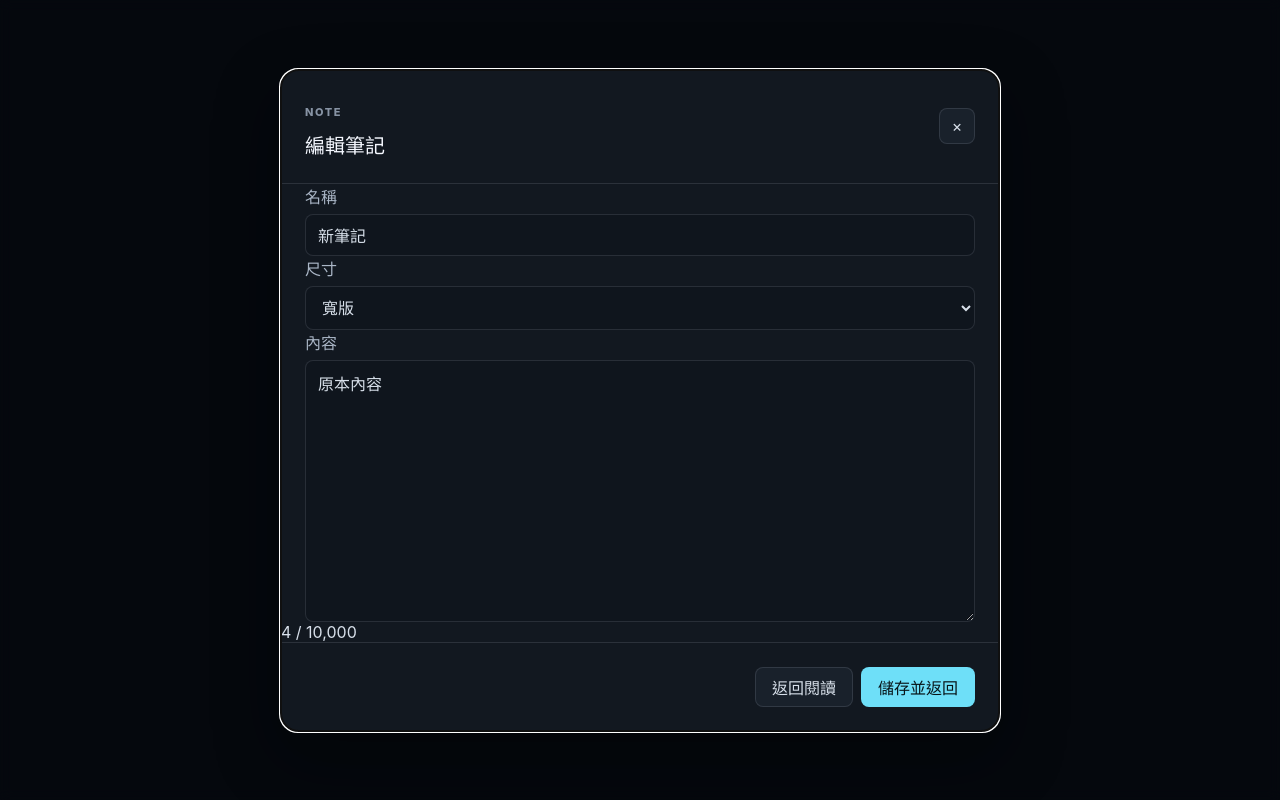
Scenario: NoteEditDialog › 純文字內容會在 500ms 後自動保存
Replace the text in the text box labelled "內容" with "新的內容". click: (640, 490)
box: [305,360,975,622]
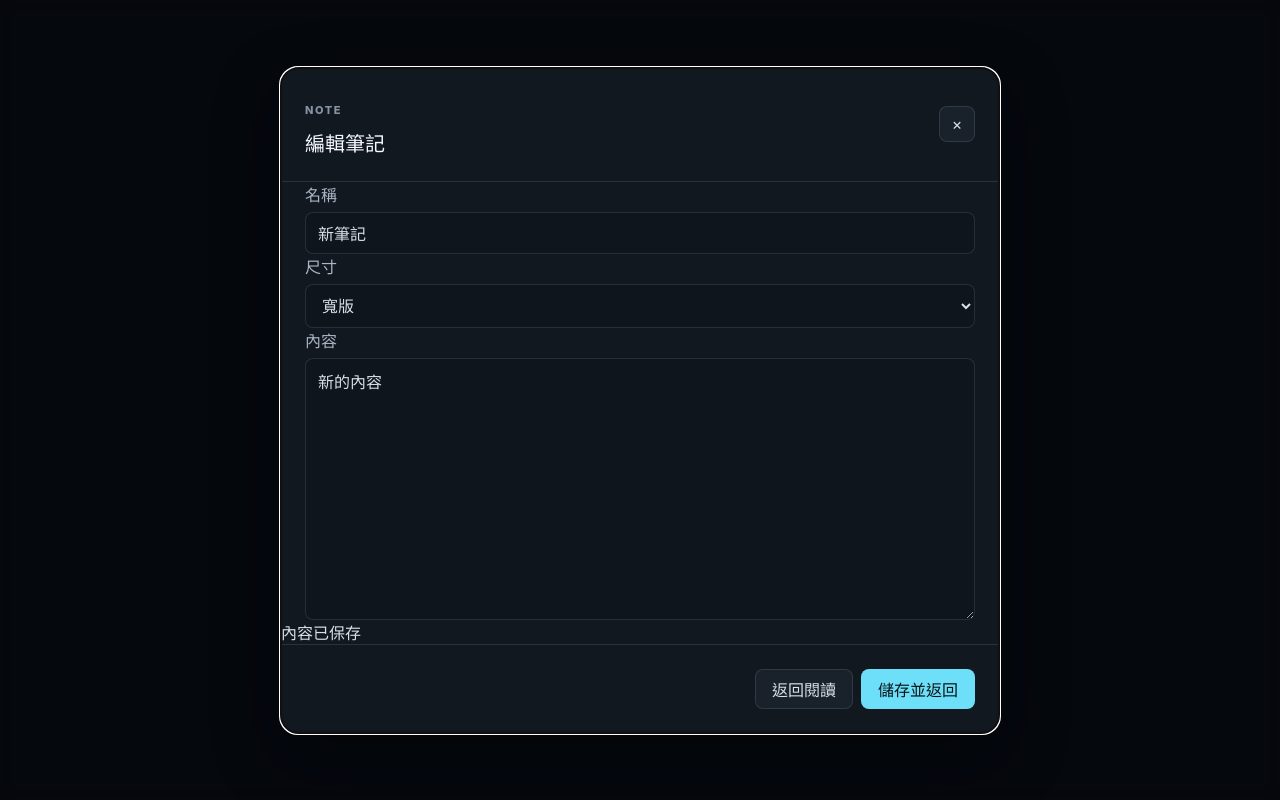
expect the message reads "內容已保存": met, box [281,622,361,642]
